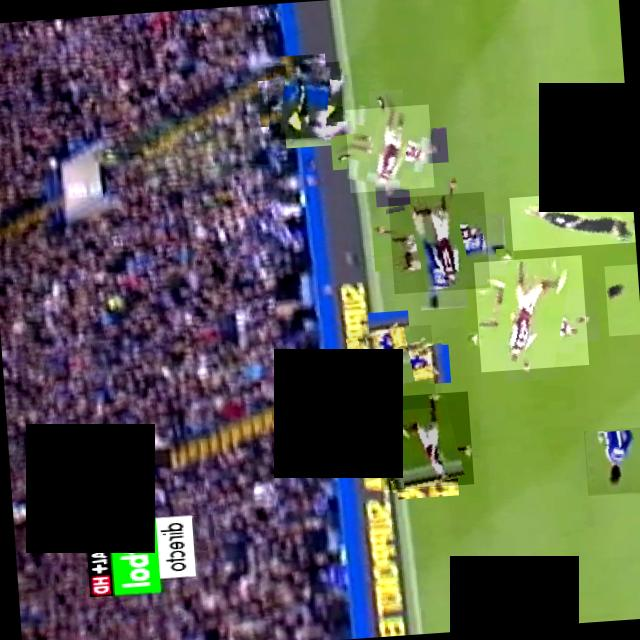ball: (417, 338, 442, 354)
referee: (509, 188, 635, 249), (265, 60, 344, 139)
soccer-player: (474, 254, 588, 371), (388, 190, 490, 292), (374, 390, 474, 489), (344, 103, 434, 192), (346, 323, 436, 412), (583, 425, 640, 494), (604, 263, 640, 335)
